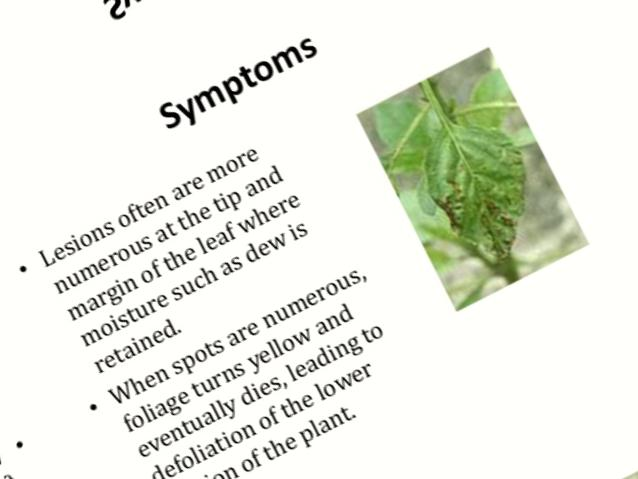Tomato leaf bacterial spot: (404, 98, 564, 283)
